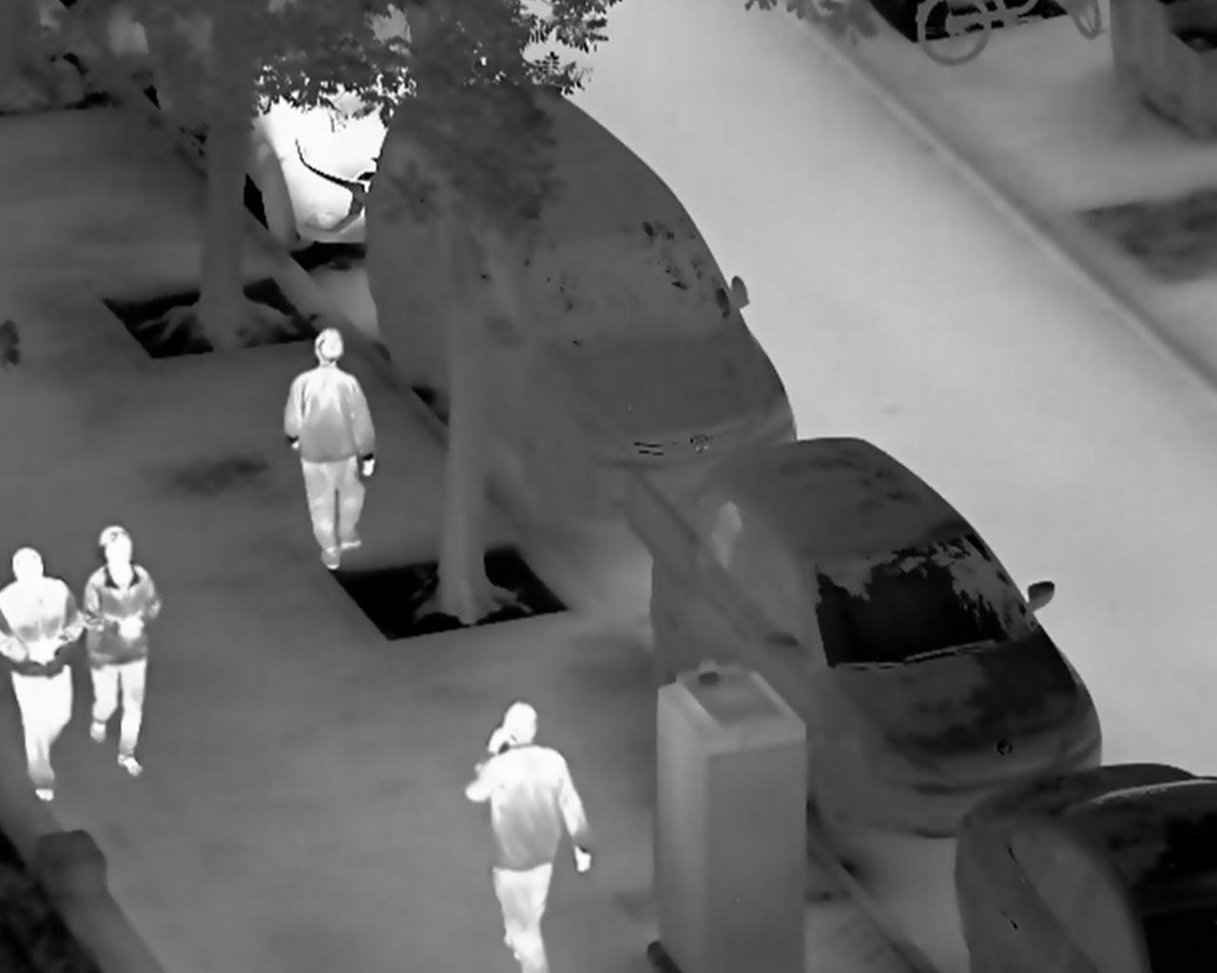person: (463, 696, 594, 973), (280, 329, 381, 571), (83, 526, 164, 779)
